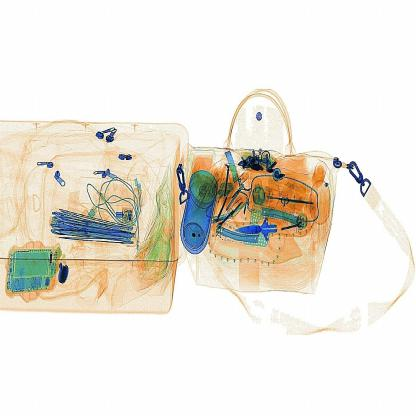gun: (226, 205, 288, 254)
